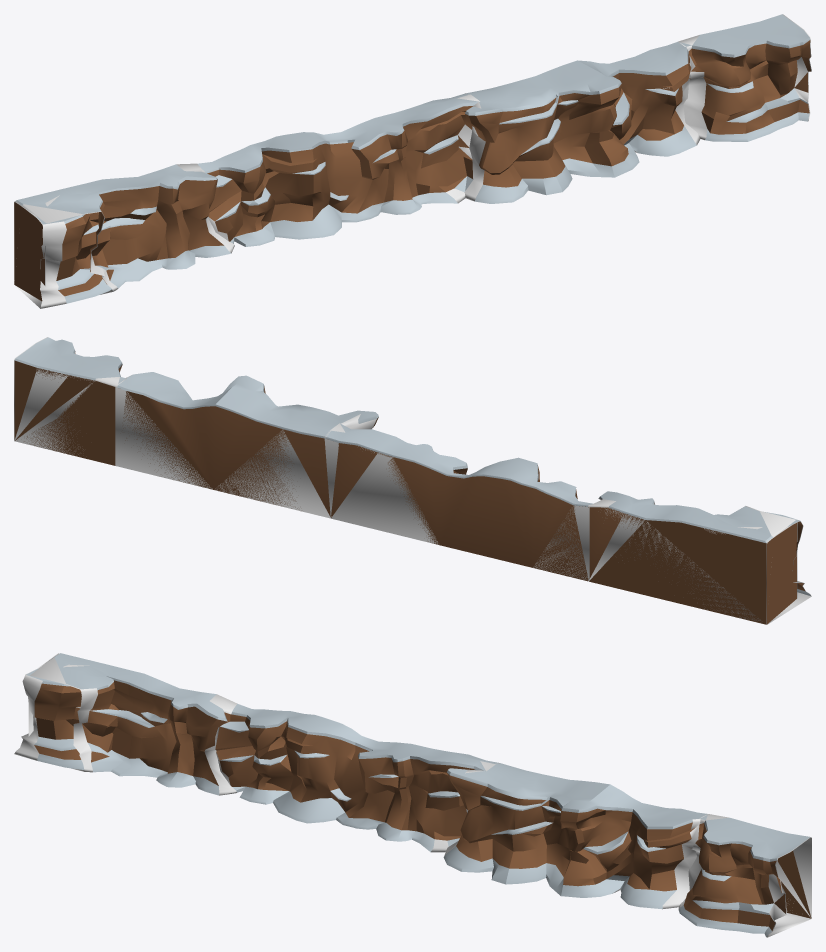
The model's file is CliffSnow.fbx.
3 views of the same model, one above another, from view 1: azimuth 30°, elevation 25°; view 2: azimuth 150°, elevation 25°; view 3: azimuth 330°, elevation 25° (orthographic).
Parts seen in each view (by area): view 1: Cliff1 Snow, Cliff2 Snow, Cliff0 Snow, Cliff3 Snow, Cliff0 Snow Connector, Cliff0 Snow Connector Shadow, Cliff3 Snow Shadow, Cliff2 Snow Shadow, Cliff0 Snow Shadow, Cliff1 Snow Shadow; view 2: Cliff1 Snow, Cliff0 Snow, Cliff2 Snow, Cliff3 Snow, Cliff2 Snow Shadow, Cliff1 Snow Shadow, Cliff3 Snow Shadow, Cliff0 Snow Shadow, Cliff0 Snow Connector Shadow, Cliff0 Snow Connector; view 3: Cliff2 Snow, Cliff1 Snow, Cliff0 Snow, Cliff3 Snow, Cliff0 Snow Connector, Cliff3 Snow Shadow, Cliff0 Snow Connector Shadow, Cliff0 Snow Shadow, Cliff2 Snow Shadow.
Part boxes in pixels (box(x1,y1,x2,y2)): Cliff1 Snow: box(197, 93, 479, 246); Cliff2 Snow: box(465, 41, 696, 203); Cliff0 Snow: box(14, 164, 230, 301); Cliff3 Snow: box(680, 14, 811, 141); Cliff0 Snow Connector: box(36, 180, 140, 303); Cliff0 Snow Connector Shadow: box(14, 163, 234, 308); Cliff3 Snow Shadow: box(678, 14, 811, 140); Cliff2 Snow Shadow: box(464, 46, 700, 201); Cliff0 Snow Shadow: box(22, 204, 117, 294); Cliff1 Snow Shadow: box(208, 93, 479, 240); Cliff1 Snow: box(325, 423, 592, 581); Cliff0 Snow: box(589, 491, 796, 624); Cliff2 Snow: box(117, 372, 378, 517); Cliff3 Snow: box(14, 337, 125, 465); Cliff2 Snow Shadow: box(115, 375, 376, 518); Cliff1 Snow Shadow: box(324, 423, 589, 580); Cliff3 Snow Shadow: box(14, 337, 126, 455); Cliff0 Snow Shadow: box(588, 506, 797, 623); Cliff0 Snow Connector Shadow: box(588, 498, 811, 624); Cliff0 Snow Connector: box(682, 508, 810, 595); Cliff2 Snow: box(443, 763, 707, 908); Cliff1 Snow: box(215, 703, 498, 851); Cliff0 Snow: box(54, 653, 227, 795); Cliff3 Snow: box(678, 815, 811, 937); Cliff0 Snow Connector: box(26, 666, 154, 775); Cliff3 Snow Shadow: box(678, 814, 811, 937); Cliff0 Snow Connector Shadow: box(14, 653, 237, 795); Cliff0 Snow Shadow: box(28, 657, 215, 772); Cliff2 Snow Shadow: box(444, 763, 700, 909).
Size of the model in its own units: 10392 by 1147 by 1072.
